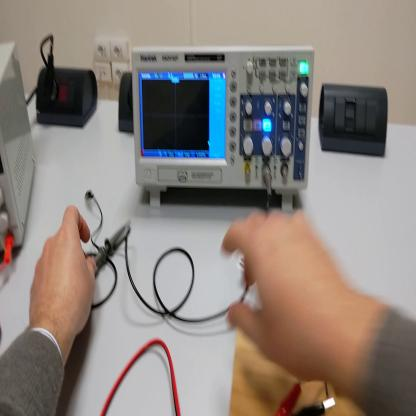hand: (223, 209, 346, 382), (29, 207, 98, 345)
oscilloscope: (132, 45, 315, 214)
oscilloscope probe tip: (97, 222, 134, 272)
power supply: (2, 42, 38, 254)
socket: (34, 67, 99, 131), (119, 73, 135, 136)
